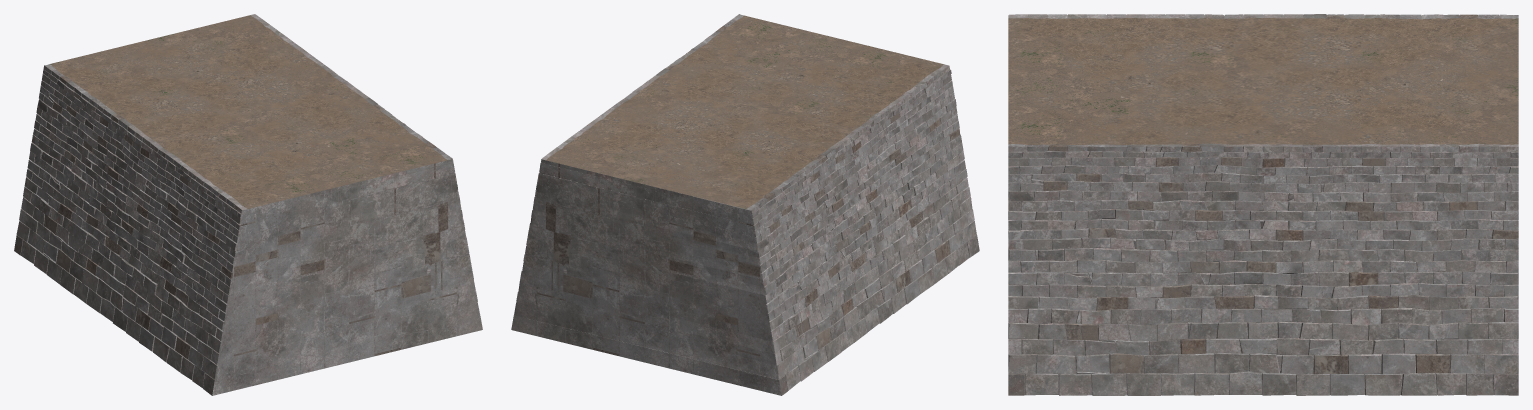
Rendered from SM_Stone_Barrier01a.fbx.
3 renders of one model, left to right at view 1: azimuth 30°, elevation 25°; view 2: azimuth 150°, elevation 25°; view 3: azimuth 270°, elevation 25°, orthographic. The views are drawn at different scales.
Visible parts, largest first — view 1: SM_Stone_Barrier01a; view 2: SM_Stone_Barrier01a; view 3: SM_Stone_Barrier01a.
Boxes of the visible parts, bbox=[...] form: SM_Stone_Barrier01a: bbox=[14, 14, 482, 395]; SM_Stone_Barrier01a: bbox=[511, 14, 979, 395]; SM_Stone_Barrier01a: bbox=[1008, 14, 1518, 395].
Bounding box in the file's own units: 633 × 800 × 398.
2 materials, 2 textured.
